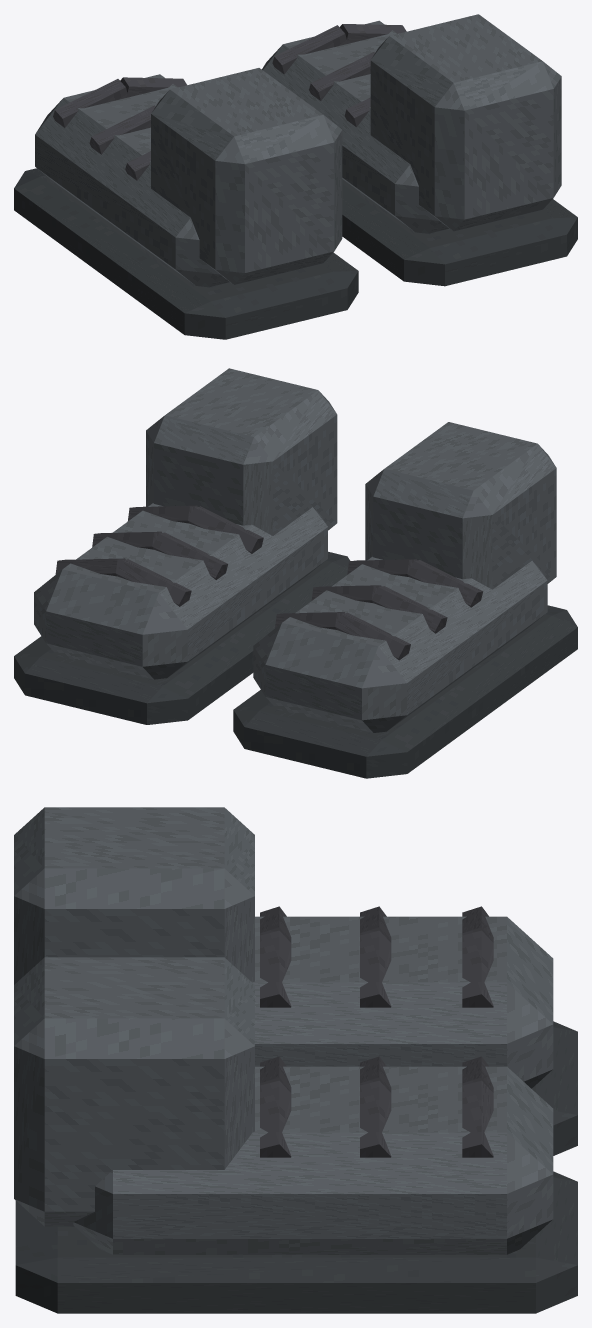
The model's file is wetsuit_booties_thick.glb.
The picture shows the model from 3 angles, top to bottom: view 1: azimuth 30°, elevation 25°; view 2: azimuth 150°, elevation 25°; view 3: azimuth 270°, elevation 25°; orthographic projection. The views are drawn at different scales.
Parts seen in each view (by area): view 1: block_boot shaft (×2), block_thick boot sole (×2), block_boot toe and foot (×2), block_reinforcing band 0 (×6), block_reinforcing band 1 (×2); view 2: block_boot toe and foot (×2), block_boot shaft (×2), block_thick boot sole (×2), block_reinforcing band 0 (×6), block_reinforcing band 1 (×6); view 3: block_boot toe and foot (×2), block_boot shaft (×2), block_thick boot sole (×2), block_reinforcing band 1 (×6), block_reinforcing band 0 (×6).
Boxes of the visible parts, x1,y1,x2,y2 form: block_boot shaft (×2): (151,14,561,284); block_thick boot sole (×2): (14,168,577,339); block_boot toe and foot (×2): (35,20,449,287); block_reinforcing band 0 (×6): (53,25,374,180); block_reinforcing band 1 (×2): (120,24,406,97); block_boot toe and foot (×2): (34,503,547,732); block_boot shaft (×2): (146,368,556,589); block_thick boot sole (×2): (14,551,577,778); block_reinforcing band 0 (×6): (116,506,483,660); block_reinforcing band 1 (×6): (55,505,417,629); block_boot toe and foot (×2): (73,916,553,1254); block_boot shaft (×2): (14,807,254,1226); block_thick boot sole (×2): (15,1021,577,1313); block_reinforcing band 1 (×6): (260,930,493,1157); block_reinforcing band 0 (×6): (260,906,493,1092).
Size of the model in its own units: 0.266 by 0.127 by 0.2356.
1 material, 1 textured.
